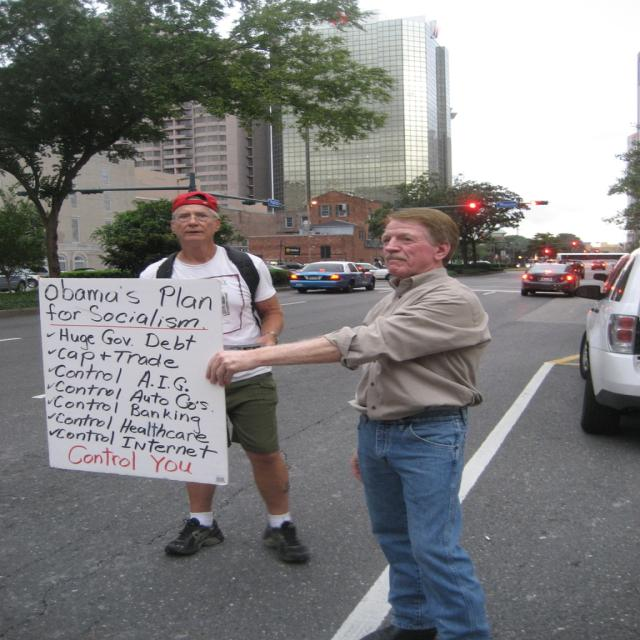car: (288, 252, 384, 292), (519, 257, 583, 292)
